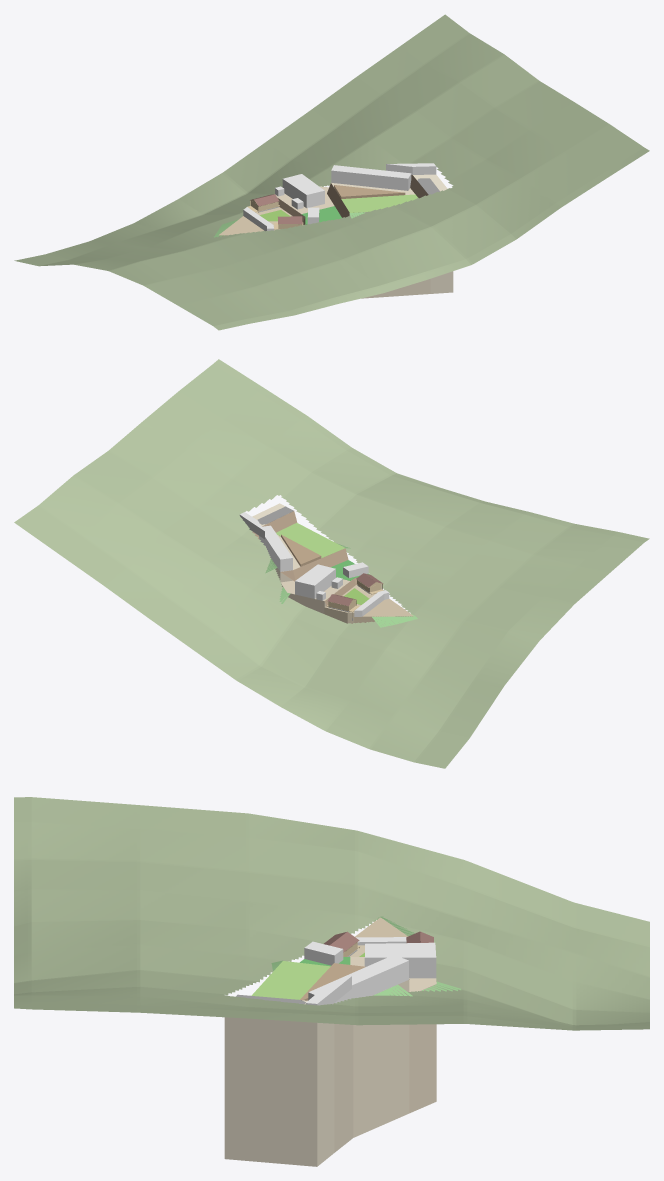
File: nava_ranch_master.glb
The picture shows the model from 3 angles, top to bottom: view 1: azimuth 30°, elevation 25°; view 2: azimuth 150°, elevation 25°; view 3: azimuth 270°, elevation 25°; orthographic projection. The views are drawn at different scales.
Visible parts, largest first — view 1: Terrain_outside, Mass_Multi_barn, Mass_Home, Mass_Pasture, Terrace_2, Terrace_1, Mass_Corral, Mass_Reception; view 2: Terrain_outside, Mass_Pasture, Mass_Home, Mass_Multi_barn, Terrace_3, Terrace_5, Face_T2_T3; view 3: Terrain_outside, Terrace_1, Terrace_2, Terrace_3, Mass_Multi_barn, Mass_Pasture, Mass_Home, Mass_Greenhouse, Mass_Reception, Slopes_B_neighbour, Mass_Corral, Terrace_5.
Boxes of the visible parts, x1,y1,x2,y2 form: Terrain_outside: (14,14,649,330); Mass_Multi_barn: (331,165,411,190); Mass_Home: (282,174,324,208); Mass_Pasture: (341,194,417,212); Terrace_2: (331,183,430,298); Terrace_1: (413,174,453,293); Mass_Corral: (334,185,405,198); Mass_Reception: (386,163,436,174); Terrain_outside: (14,359,649,768); Mass_Pasture: (276,523,345,557); Mass_Home: (295,564,335,598); Mass_Multi_barn: (259,525,292,571); Terrace_3: (281,579,351,613); Terrace_5: (354,598,413,623); Face_T2_T3: (281,548,348,581); Terrain_outside: (14,797,649,1030); Terrace_1: (224,1000,334,1166); Terrace_2: (334,980,409,1152); Terrace_3: (350,957,436,1113); Mass_Multi_barn: (308,955,408,1003); Mass_Pasture: (251,961,330,999); Mass_Home: (364,942,436,978); Mass_Greenhouse: (304,941,343,965); Mass_Reception: (305,976,351,1005); Slopes_B_neighbour: (271,916,460,996); Mass_Corral: (300,963,365,1000); Terrace_5: (355,917,407,937).
Bounding box in the file's own units: 220 × 77.95 × 181.
